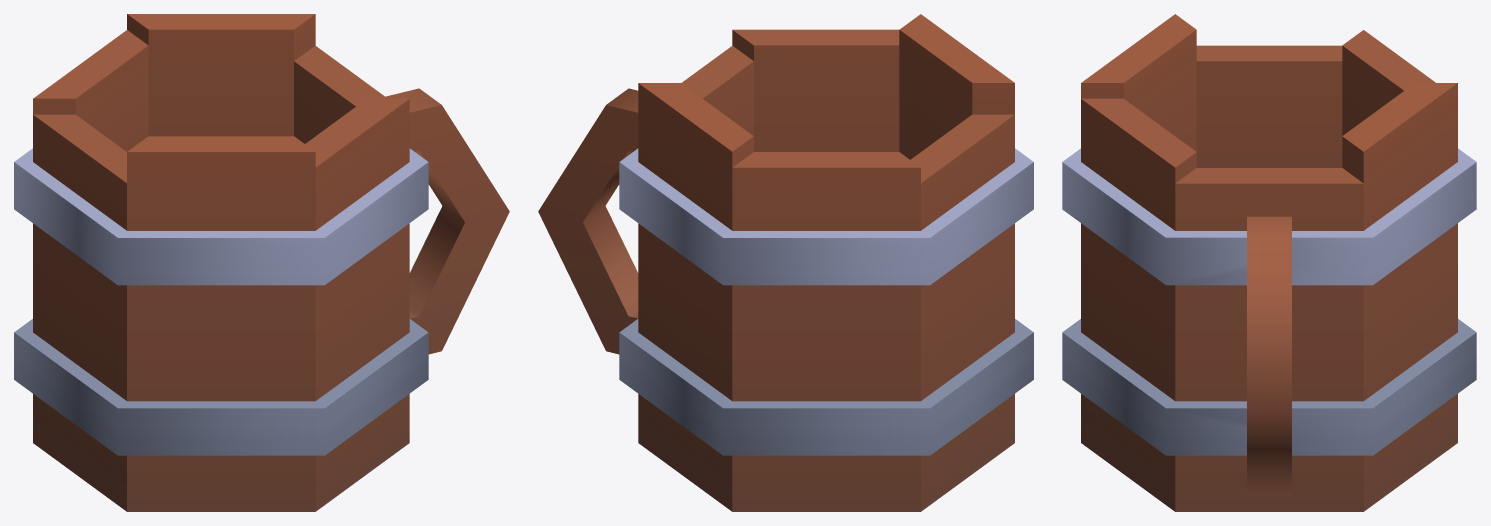
File: food.mug.glb
The picture shows the model from 3 angles, left to right: view 1: azimuth 30°, elevation 25°; view 2: azimuth 150°, elevation 25°; view 3: azimuth 270°, elevation 25°; orthographic projection.
Parts seen in each view (by area): view 1: mug; view 2: mug; view 3: mug.
Boxes of the visible parts, x1,y1,x2,y2 form: mug: (14,14,509,511); mug: (538,14,1033,511); mug: (1062,14,1476,511).
Size of the model in its own units: 0.1021 by 0.0812 by 0.0847.
1 material, 1 textured.
